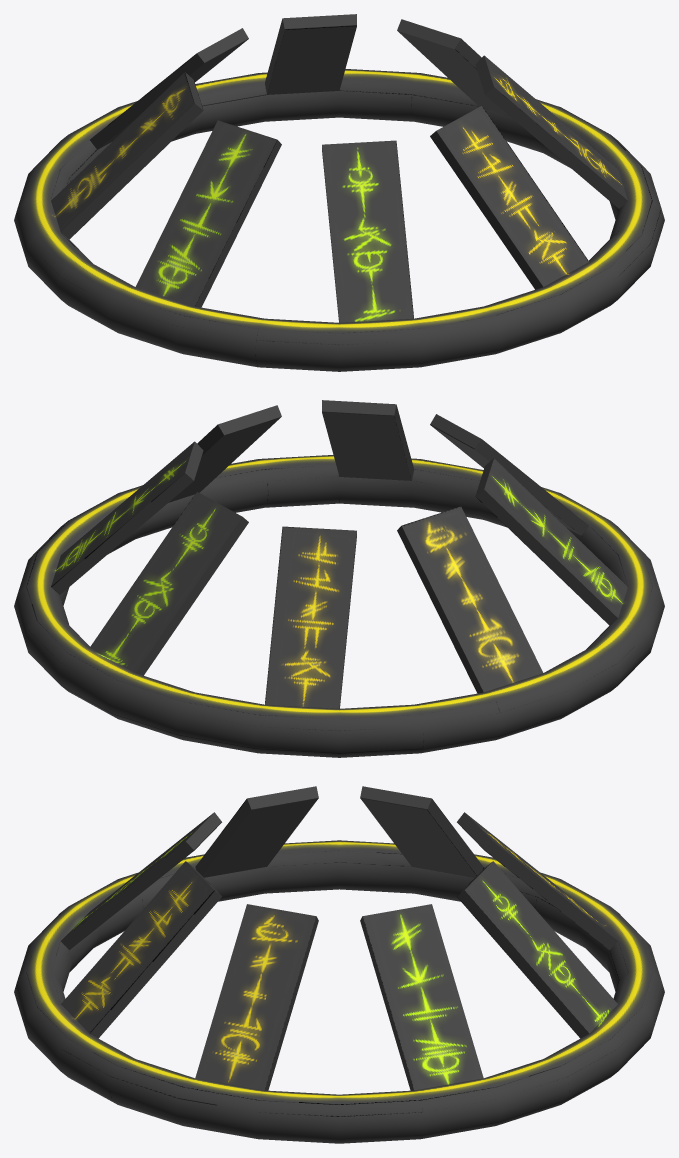
Rendered from Guide Base.FBX.
3 renders of one model, top to bottom at view 1: azimuth 30°, elevation 25°; view 2: azimuth 150°, elevation 25°; view 3: azimuth 270°, elevation 25°, orthographic.
Visible parts, largest first — view 1: Guide Base; view 2: Guide Base; view 3: Guide Base.
Part boxes in pixels (x1,y1,x2,y2): Guide Base: (14,14,664,371); Guide Base: (14,400,664,757); Guide Base: (14,786,664,1143).
Size of the model in its own units: 4.04 by 1.12 by 4.04.
1 material, 1 textured.
